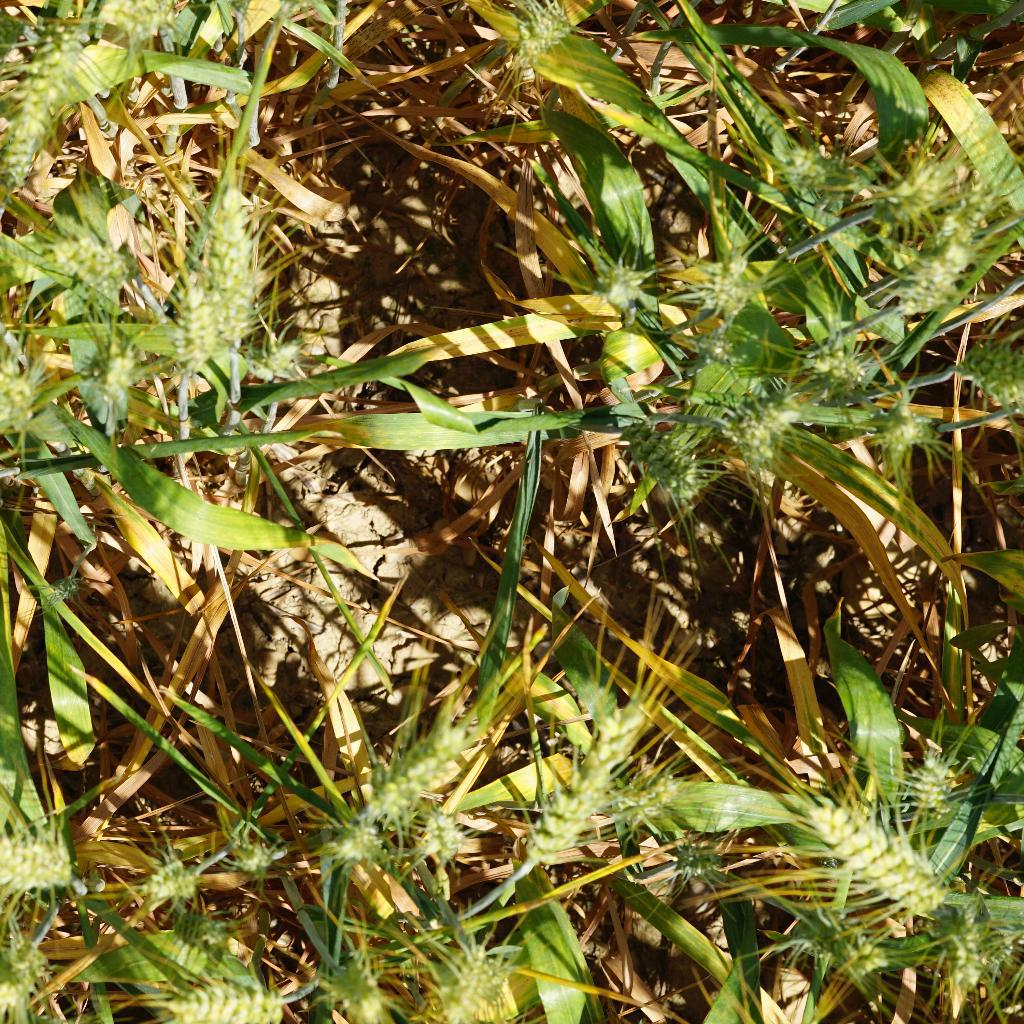0-0: (516, 673, 646, 879), (795, 785, 952, 914), (339, 691, 468, 832), (0, 22, 82, 201), (903, 171, 987, 331), (183, 172, 253, 347), (619, 406, 714, 504), (937, 318, 1024, 407), (422, 929, 501, 1024), (145, 972, 286, 1024), (41, 228, 139, 296), (858, 397, 945, 470), (722, 377, 798, 459), (0, 831, 93, 896), (0, 917, 55, 1024), (687, 236, 761, 314), (822, 912, 893, 993), (495, 0, 582, 65), (938, 890, 994, 990), (77, 329, 152, 403), (791, 142, 874, 208), (605, 765, 686, 832), (901, 751, 968, 830), (803, 326, 874, 400), (129, 847, 212, 909), (585, 238, 649, 318), (93, 0, 199, 47), (875, 152, 940, 228), (168, 273, 221, 362), (329, 950, 392, 1024), (238, 332, 313, 385), (682, 321, 752, 376), (0, 365, 47, 441), (411, 806, 471, 859), (324, 813, 377, 870), (666, 839, 723, 884), (229, 834, 277, 880), (41, 569, 81, 612)
